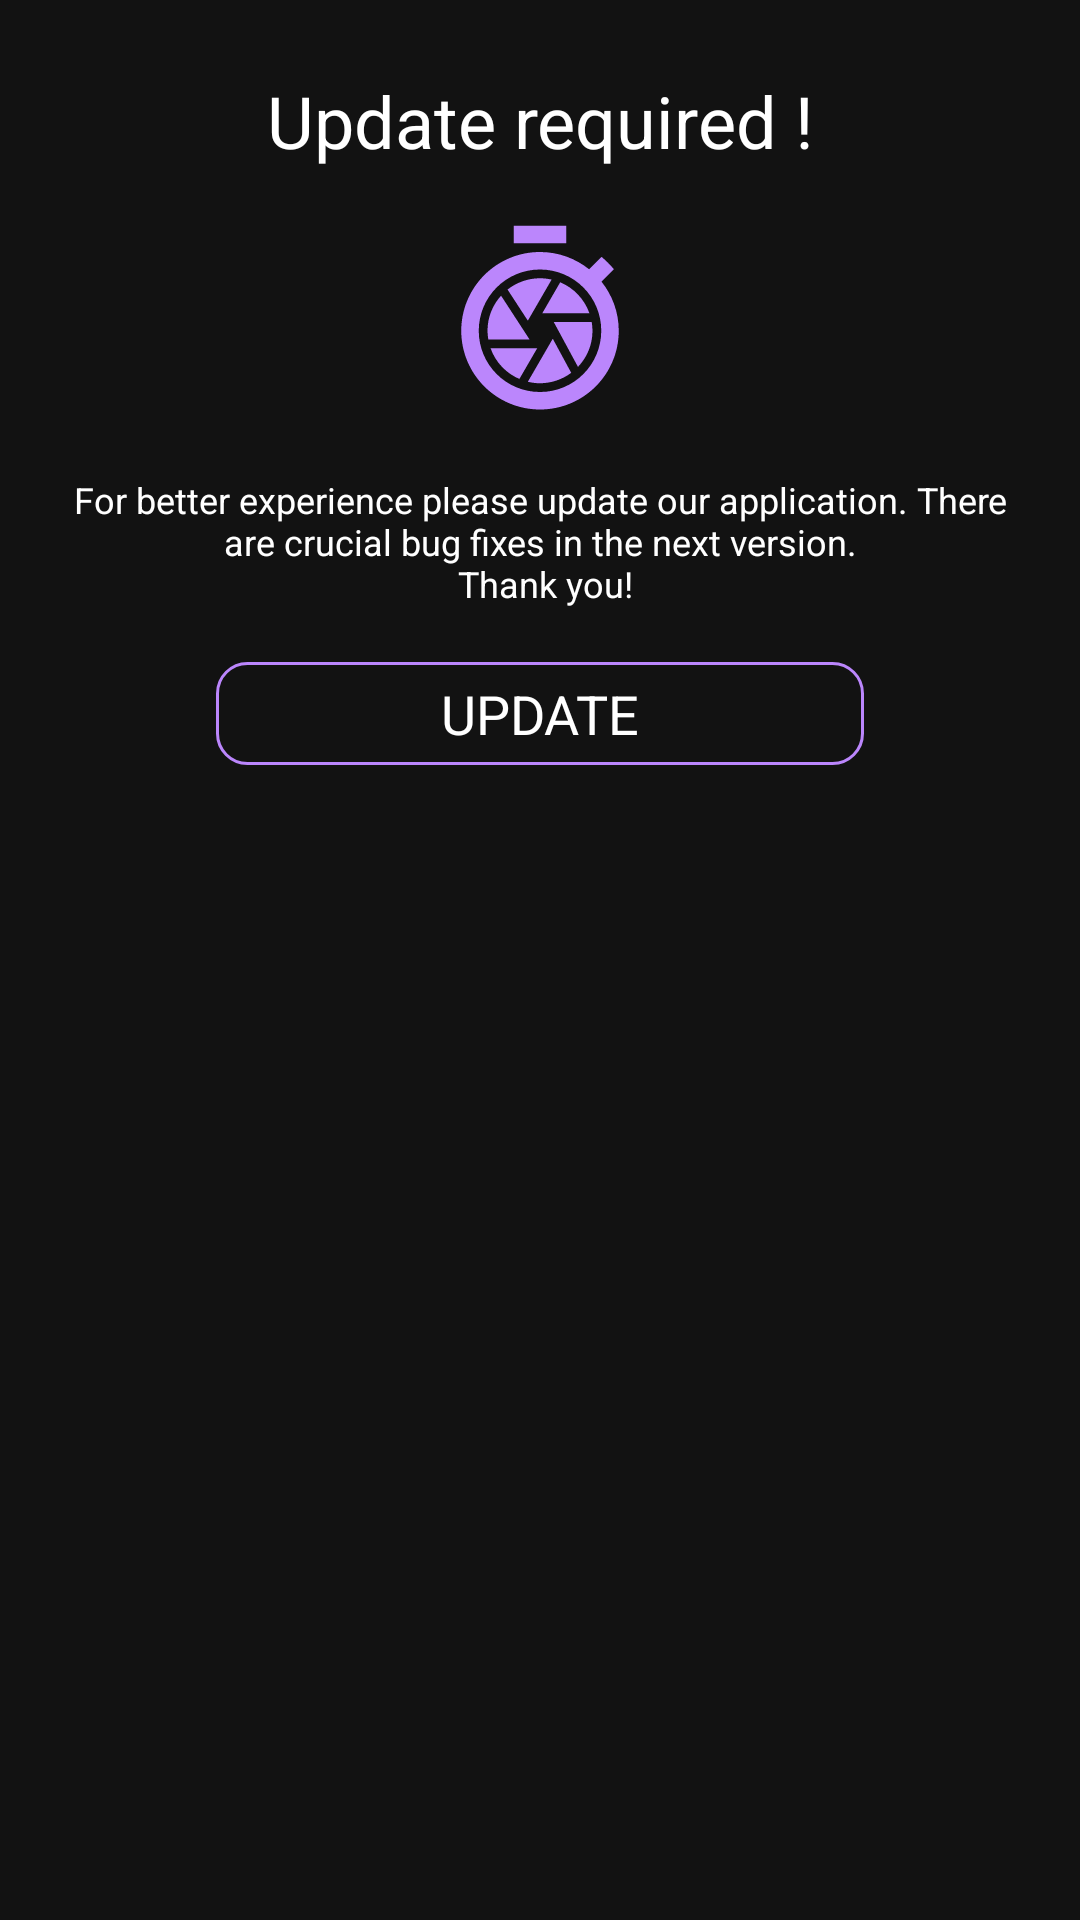

Named icons in this screenshot (1080*1920) and their bounding boxes, box(x1, y1, x2, y2):
shutter speed: box(461, 225, 619, 410)
